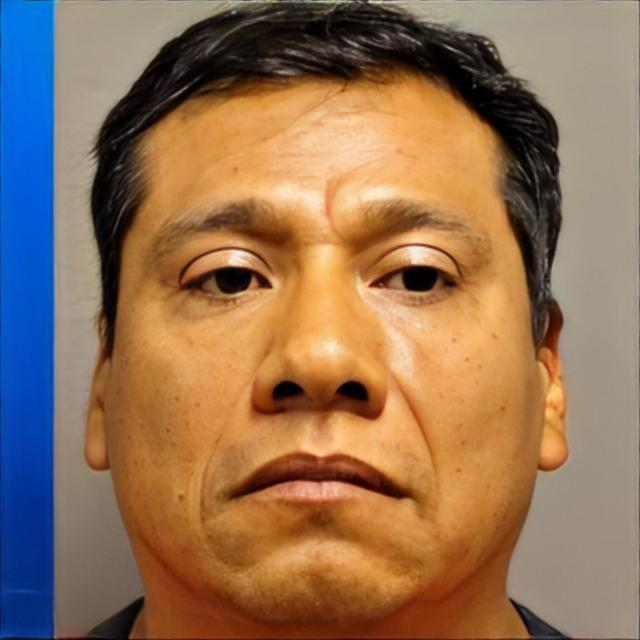sad: (104, 68, 537, 634)
